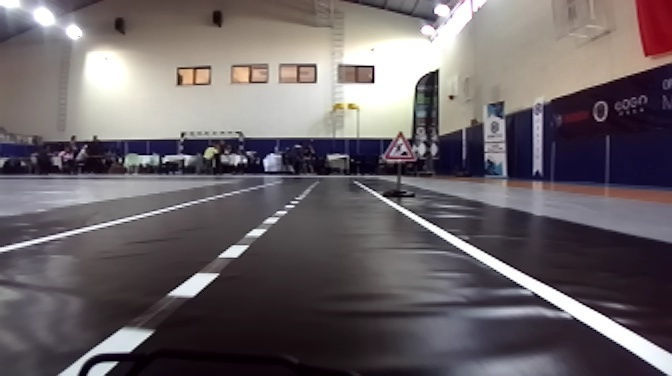yol_yapimi: (381, 124, 417, 161)
